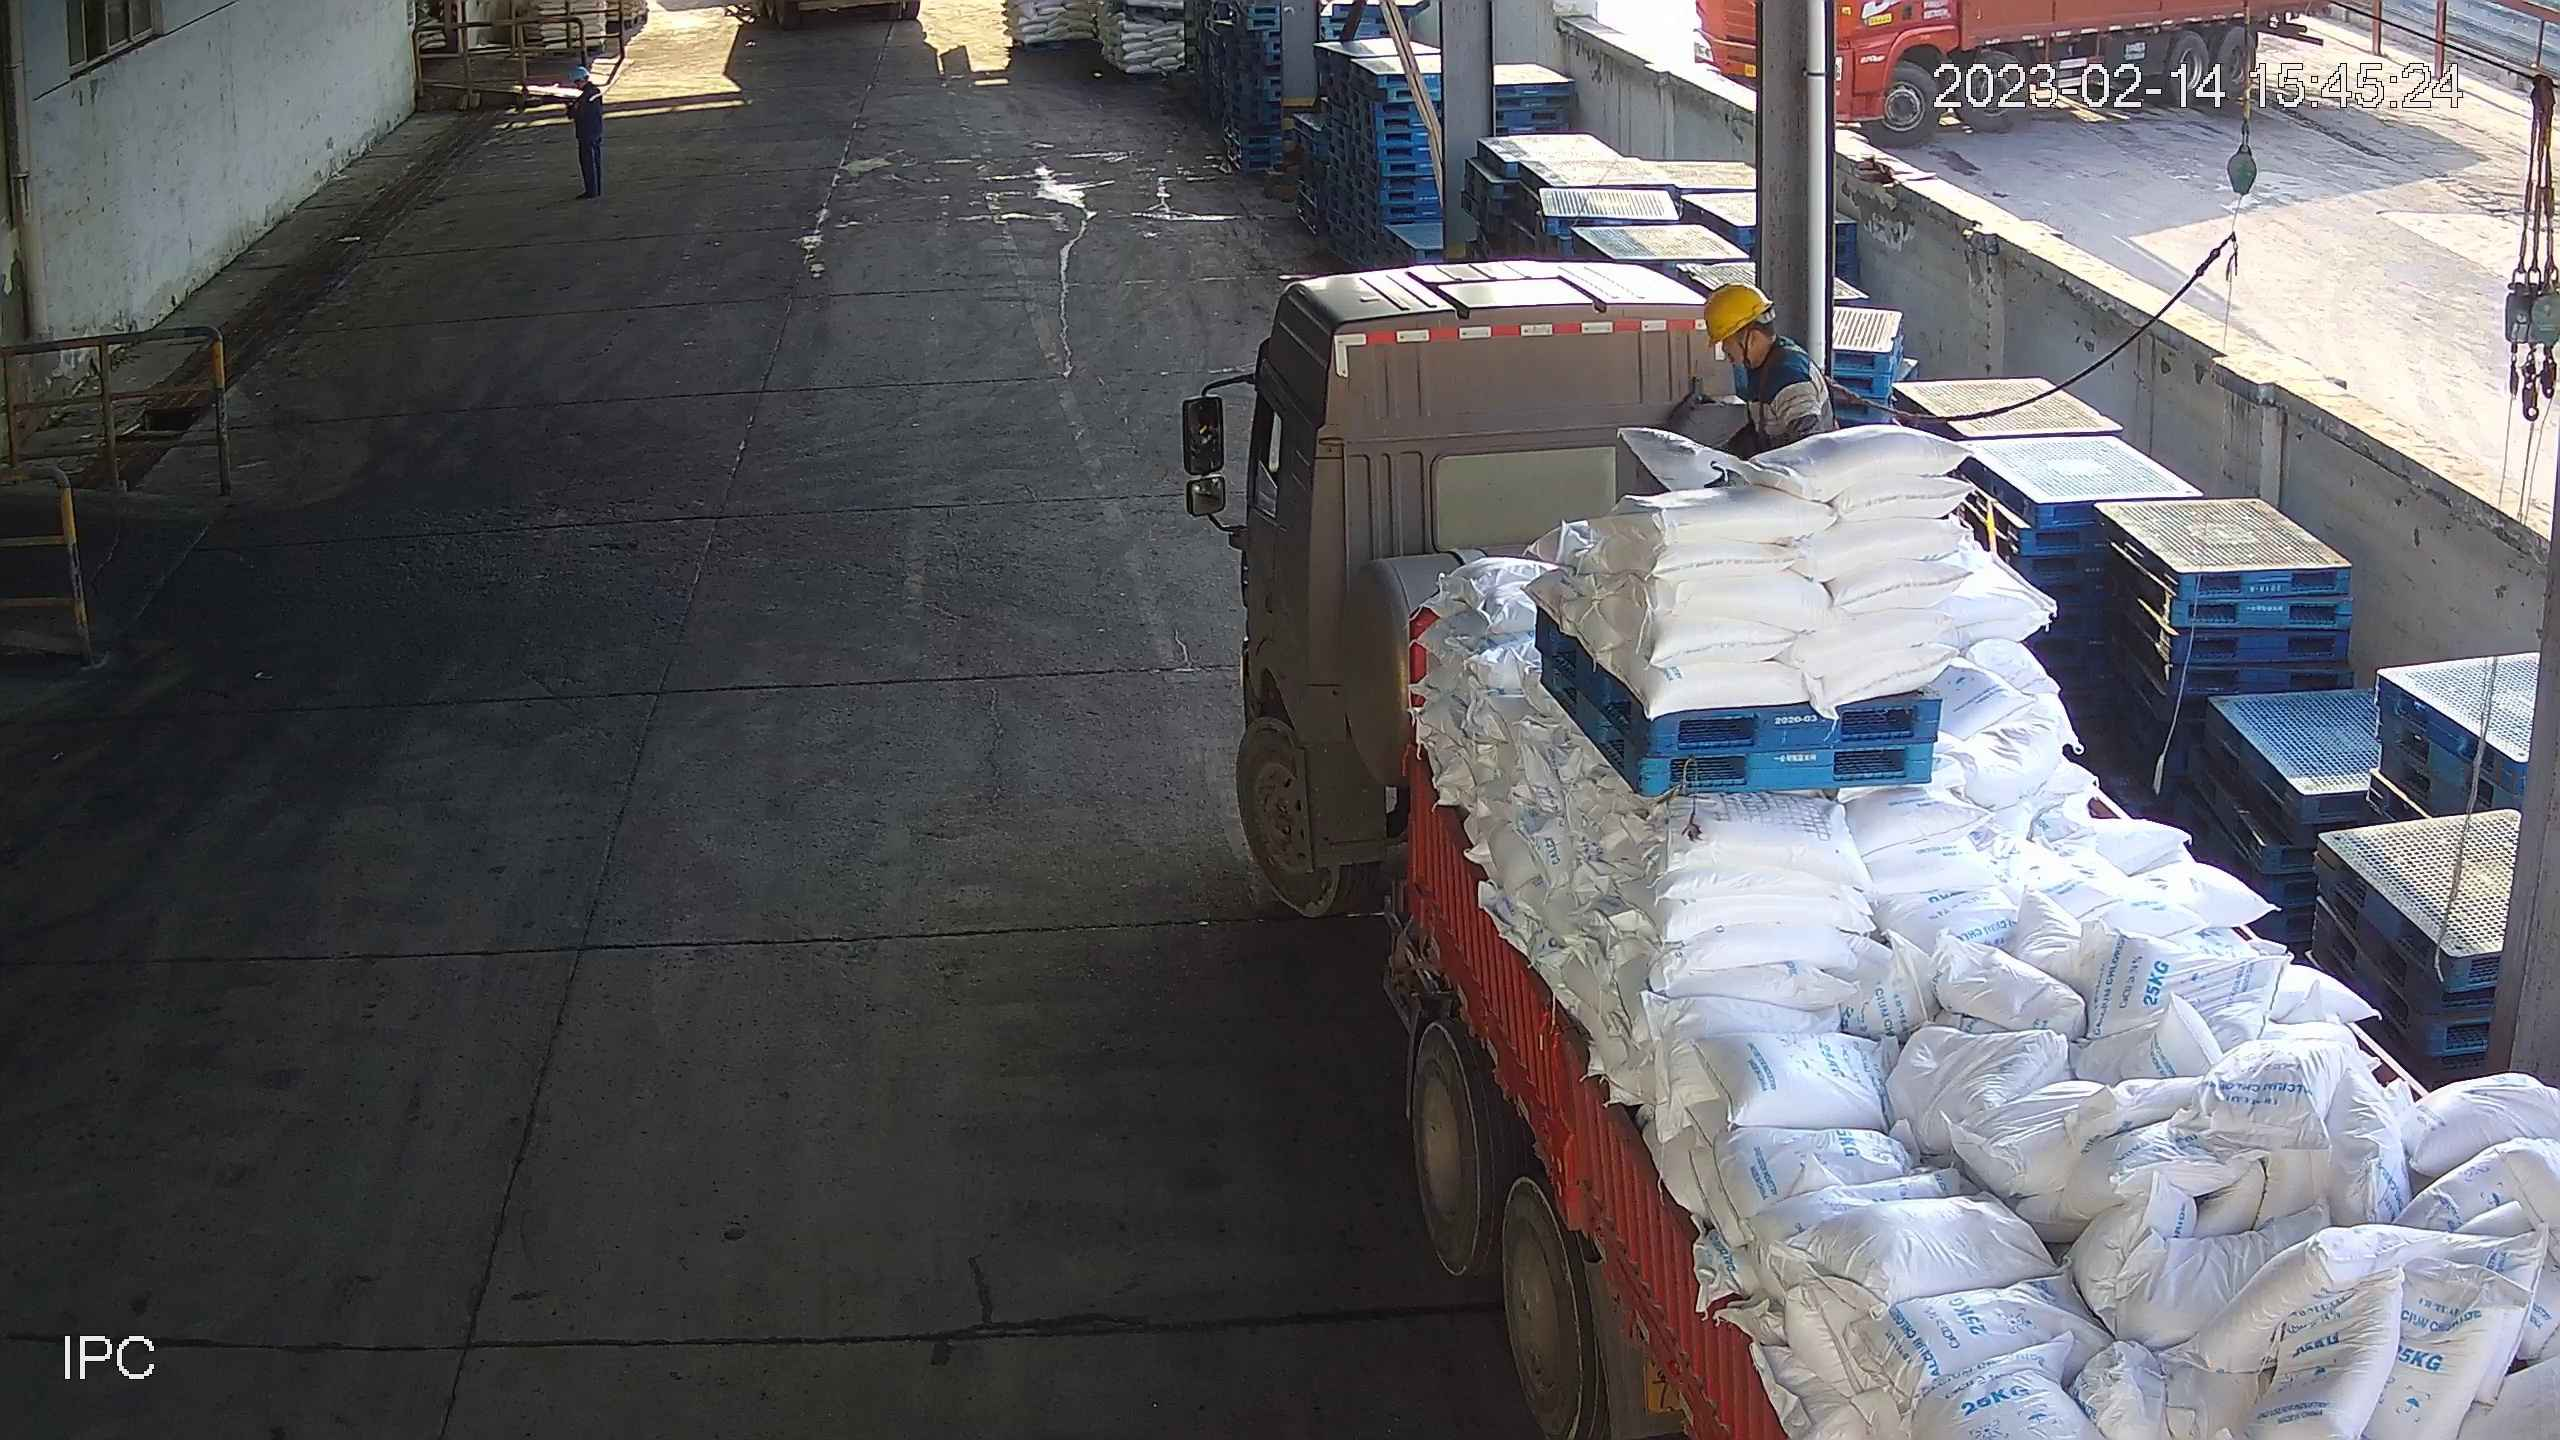belt: (1748, 348, 1858, 439)
head: (1706, 285, 1818, 411), (567, 67, 600, 99)
helmet: (1702, 281, 1774, 343), (568, 65, 590, 79)
people: (565, 66, 605, 200)
truck: (1170, 264, 2560, 1440)
